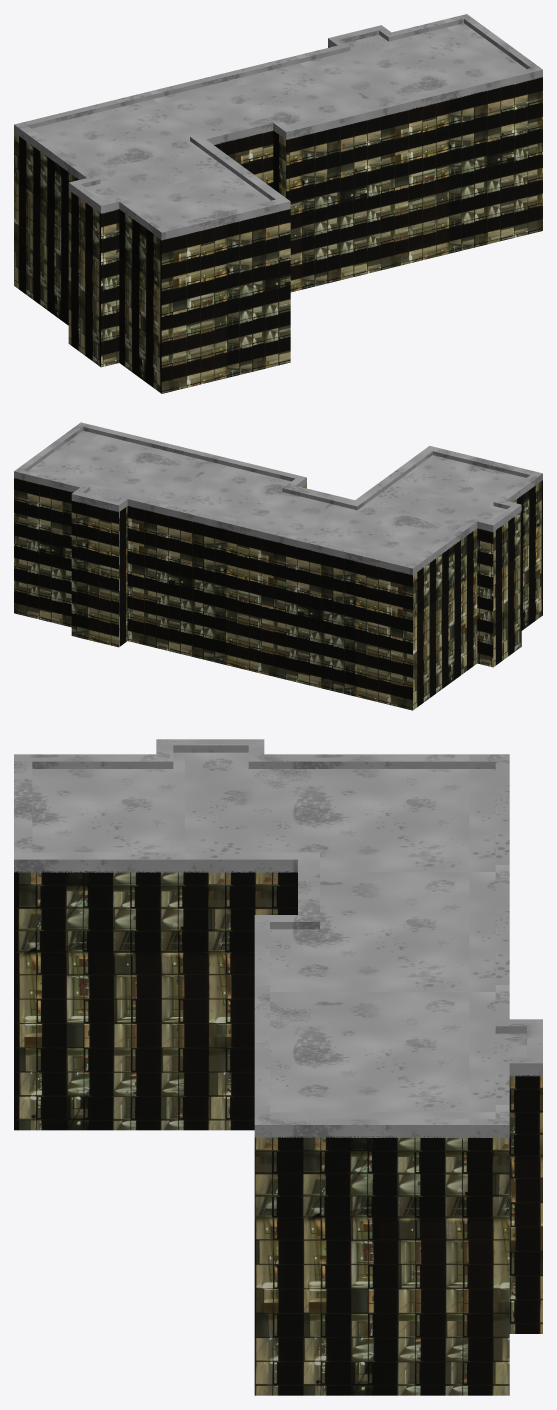
Rendered from seg3.gltf.
The picture shows the model from 3 angles, top to bottom: view 1: azimuth 30°, elevation 25°; view 2: azimuth 150°, elevation 25°; view 3: azimuth 270°, elevation 25°; orthographic projection. The views are drawn at different scales.
Parts seen in each view (by area): view 1: Cube.001, Cube; view 2: Cube.001, Cube; view 3: Cube.001, Cube.
Part boxes in pixels (x1,y1,x2,y2): Cube.001: [14, 46, 542, 393]; Cube: [14, 14, 542, 240]; Cube.001: [14, 478, 542, 710]; Cube: [14, 422, 542, 575]; Cube.001: [14, 871, 542, 1395]; Cube: [14, 739, 542, 1137].
Bounding box in the file's own units: 442 × 145 × 256.
2 materials, 2 textured.
